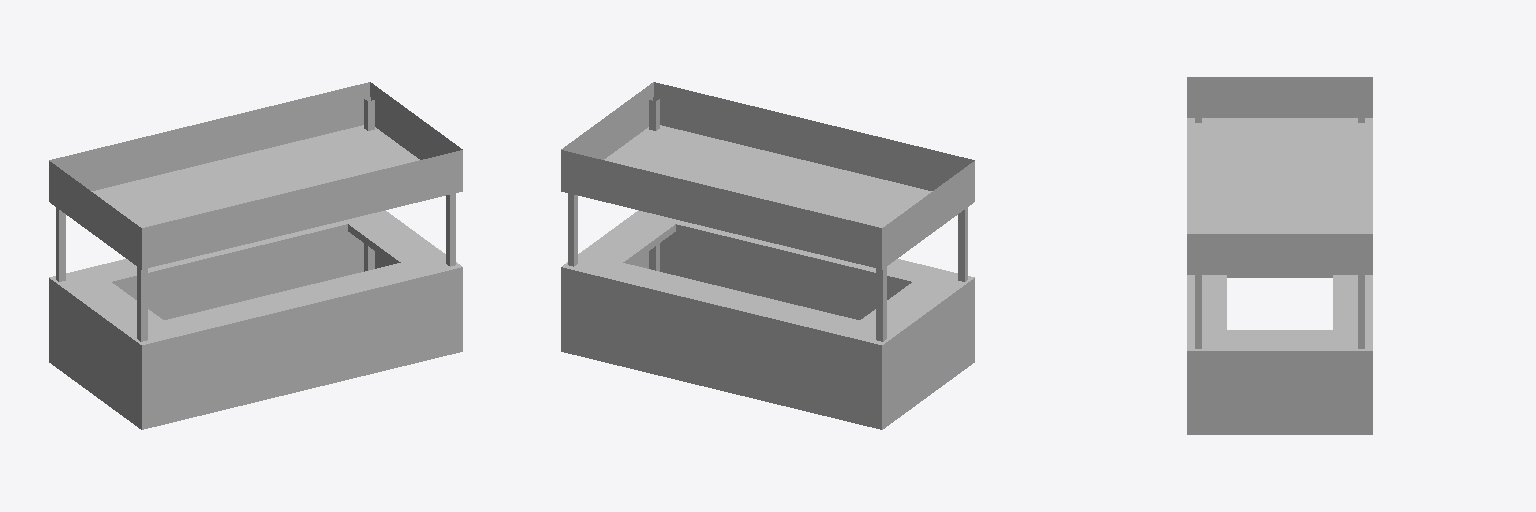
Rendered from CR_middle_cottoncandy.obj.
3 renders of one model, left to right at view 1: azimuth 30°, elevation 25°; view 2: azimuth 150°, elevation 25°; view 3: azimuth 270°, elevation 25°, orthographic.
Visible parts, largest first — view 1: Cube_0; view 2: Cube_0; view 3: Cube_0.
Boxes of the visible parts, <box> form: Cube_0: <box>49,82,462,429</box>; Cube_0: <box>561,82,974,429</box>; Cube_0: <box>1187,77,1372,434</box>.
Size of the model in its own units: 20.16 by 12.1 by 10.08.